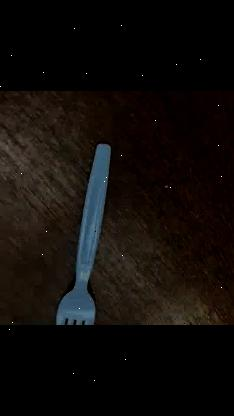Others: (56, 142, 112, 324)
